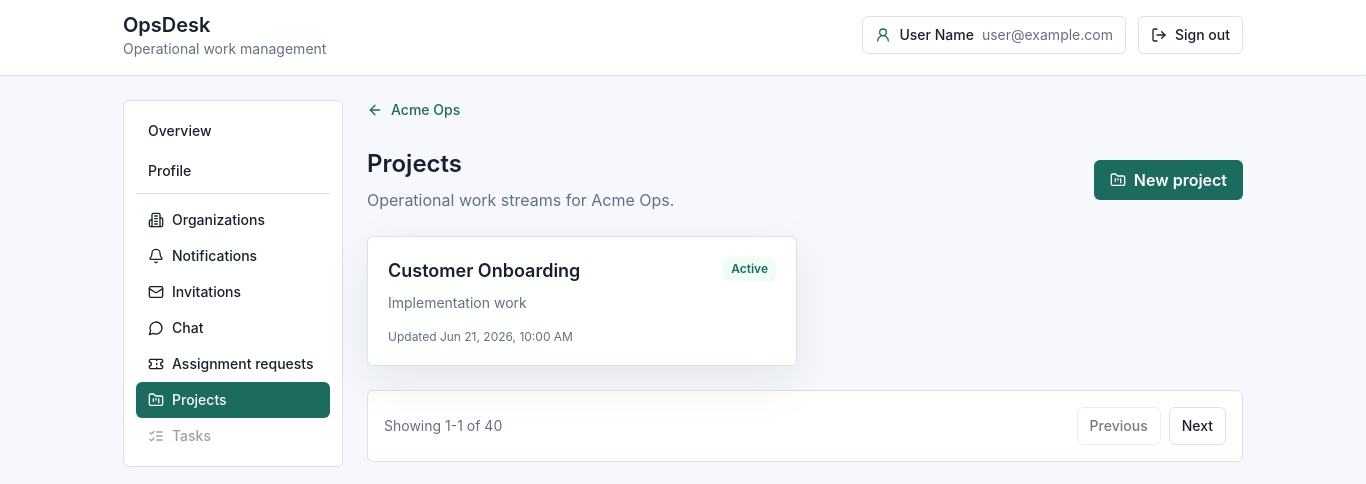
SPEC-106 frontend projects and tasks UI › lists organization projects with owner create controls
expect the heading "Projects" is shown: met, box [367, 149, 462, 178]
expect the heading "Customer Onboarding" is shown: met, box [388, 257, 580, 285]
Click the button "Next".
click(1197, 426)  # box [1169, 407, 1226, 445]
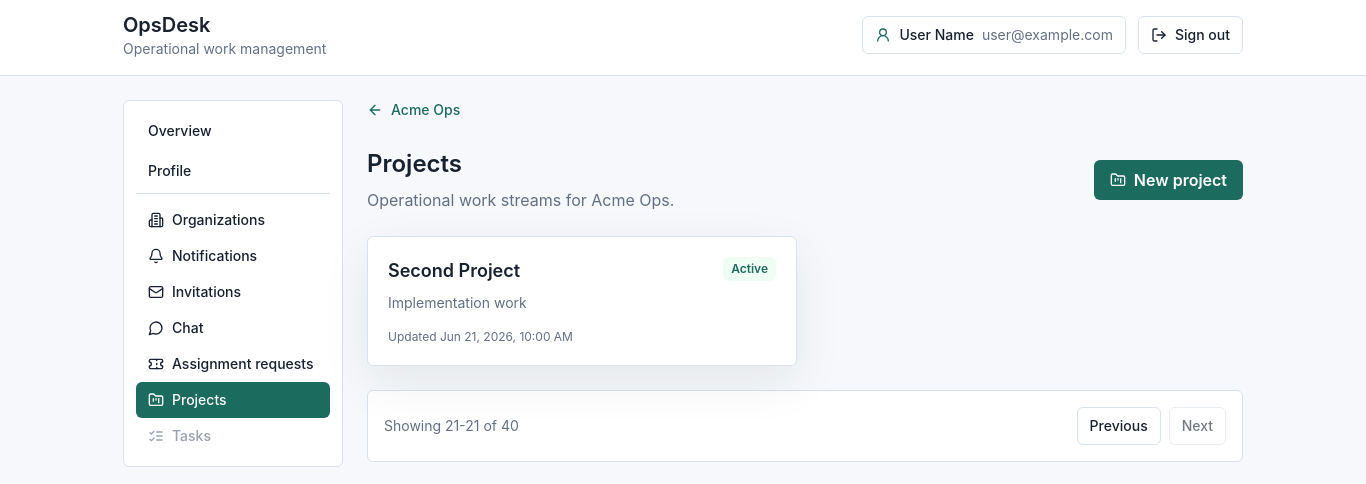
expect the heading "Second Project" is shown: met, box [388, 257, 527, 285]
